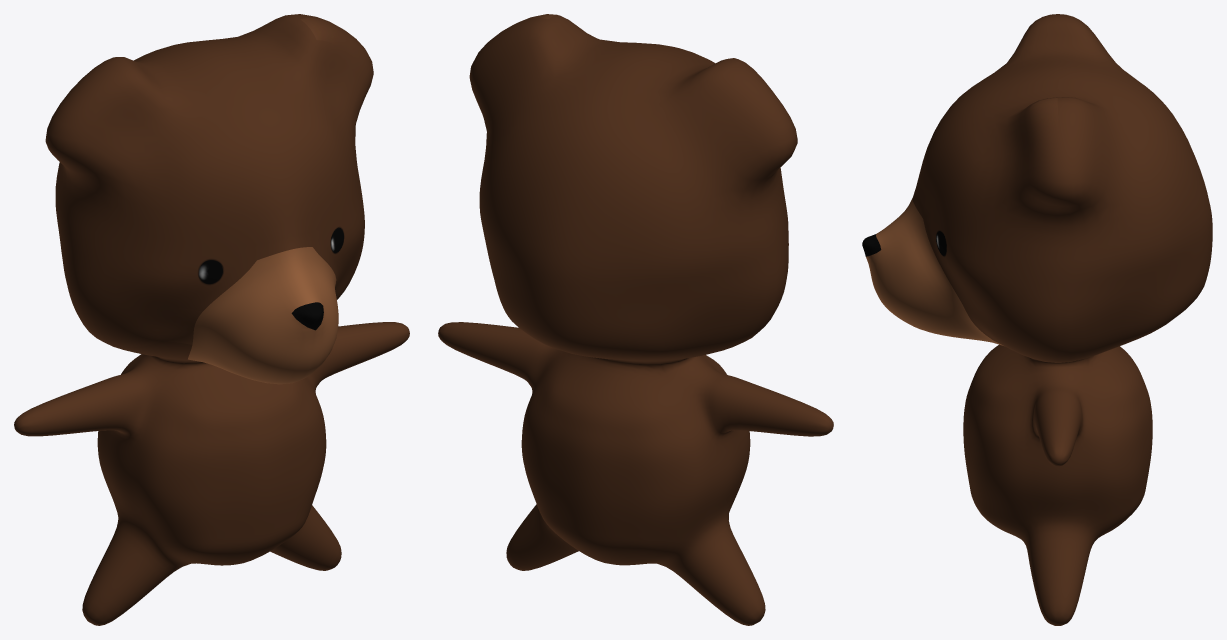
File: Teddy.fbx
3 views of the same model, side by side, from view 1: azimuth 30°, elevation 25°; view 2: azimuth 150°, elevation 25°; view 3: azimuth 270°, elevation 25° (orthographic). The views are drawn at different scales.
Visible parts, largest first — view 1: Head3; view 2: Head3; view 3: Head3.
Boxes of the visible parts, bbox=[...] form: Head3: bbox=[14, 14, 409, 625]; Head3: bbox=[438, 14, 833, 625]; Head3: bbox=[862, 14, 1212, 625].
Bounding box in the file's own units: 1.26 × 1.7 × 1.05.
1 material, 1 textured.
